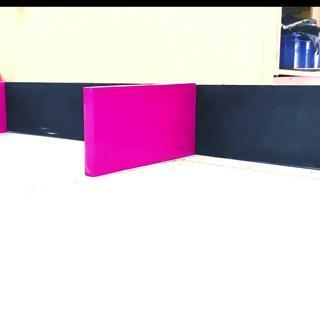xparking: (84, 88, 195, 166)
